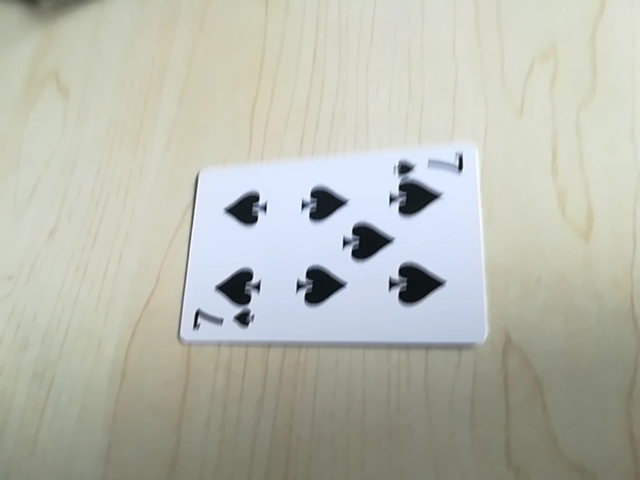ht 7: (391, 151, 466, 181), (188, 305, 258, 336)
